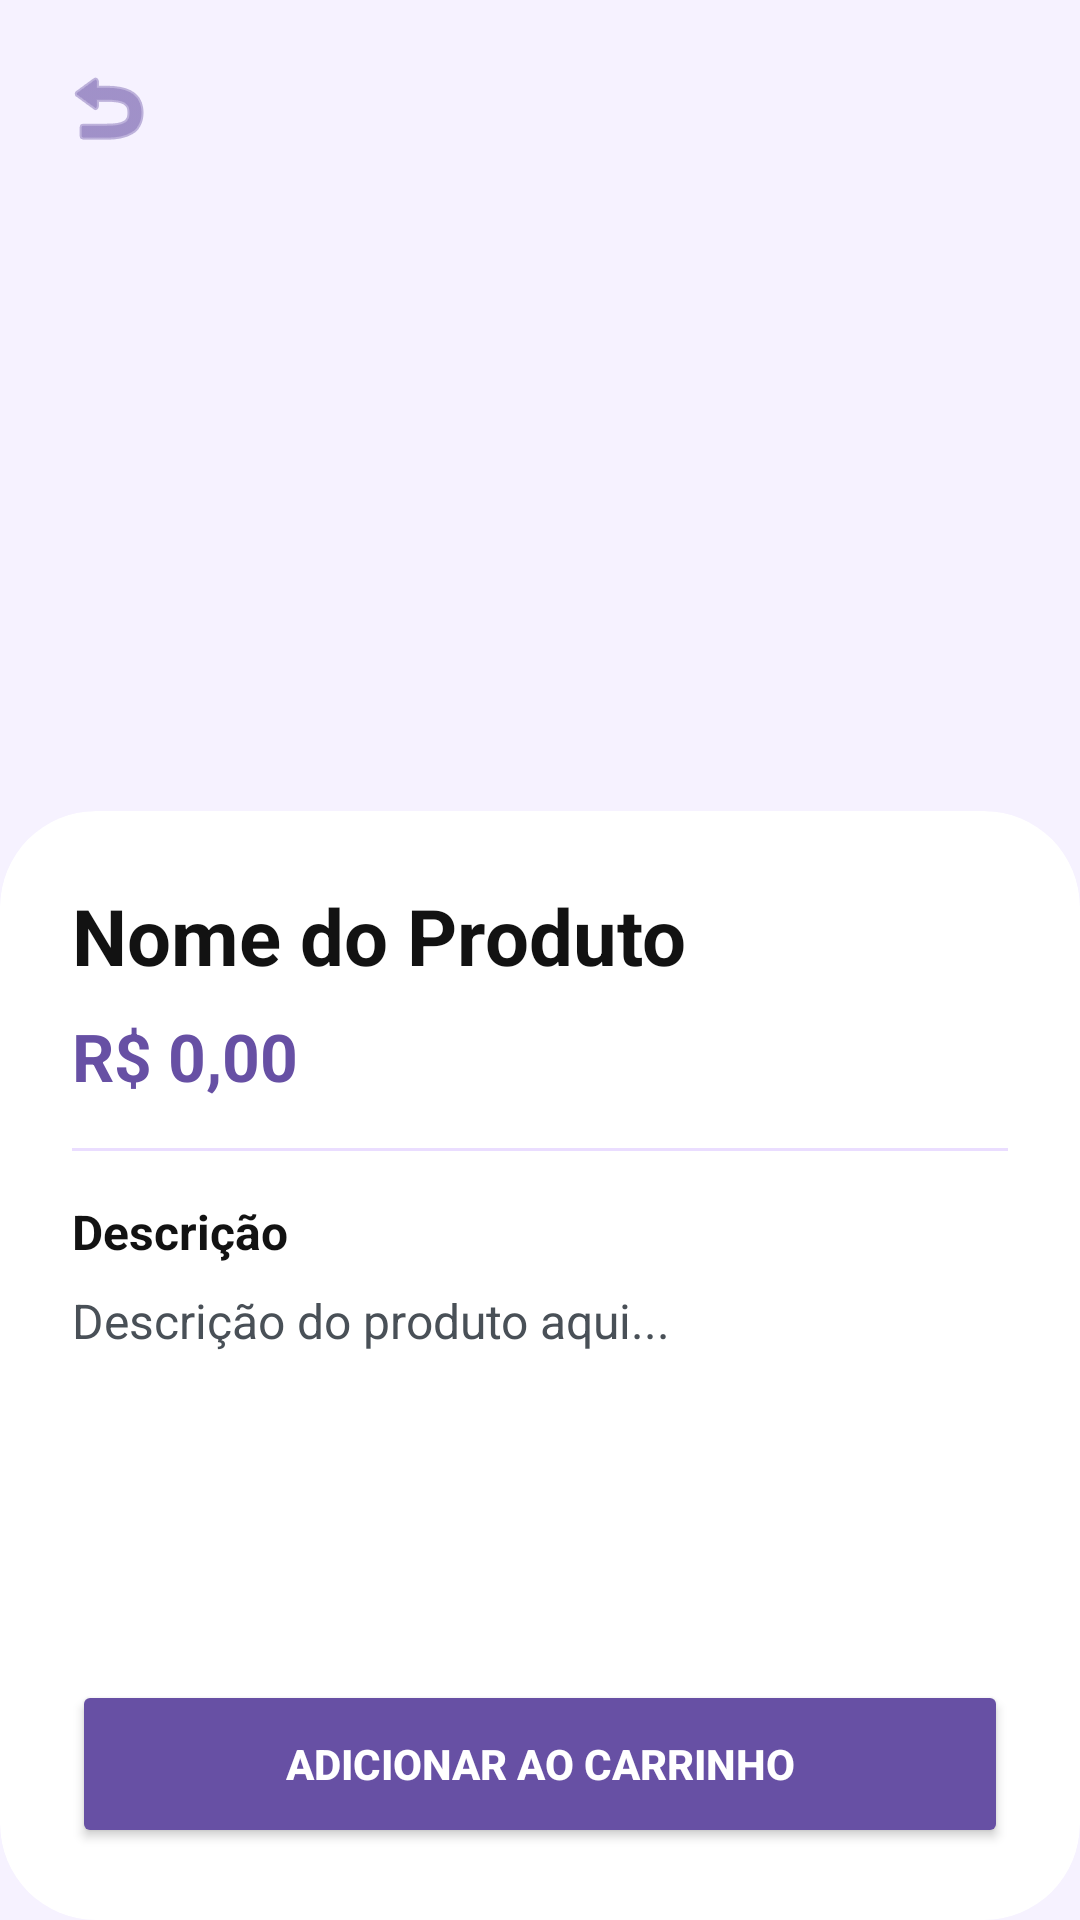

Point at icon controls on the screen. Image size 1080 x 1920, points as point (x, y).
revert: point (109, 109)
